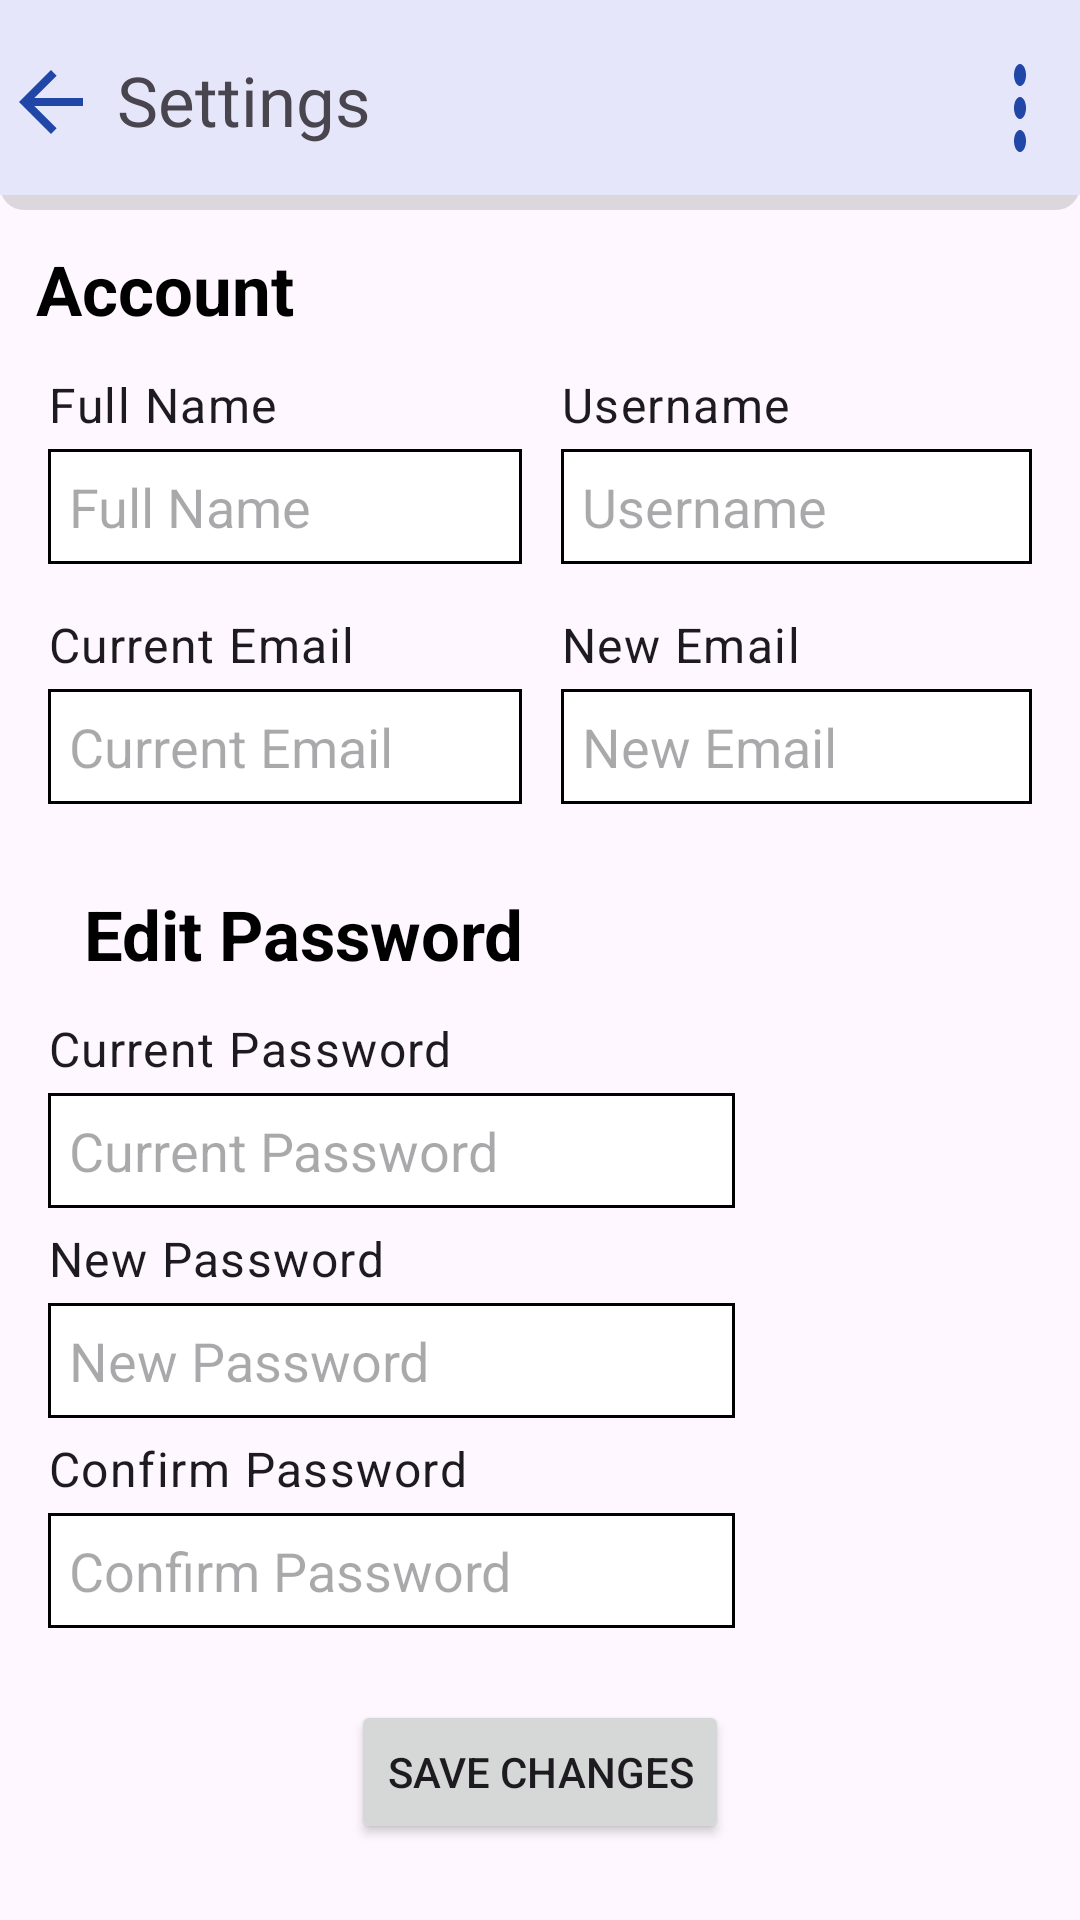

Icon bounding boxes for this 1080x1920 phone screenshot, format box(x1, y1, x2, y2):
arrow back: box(19, 70, 83, 134)
